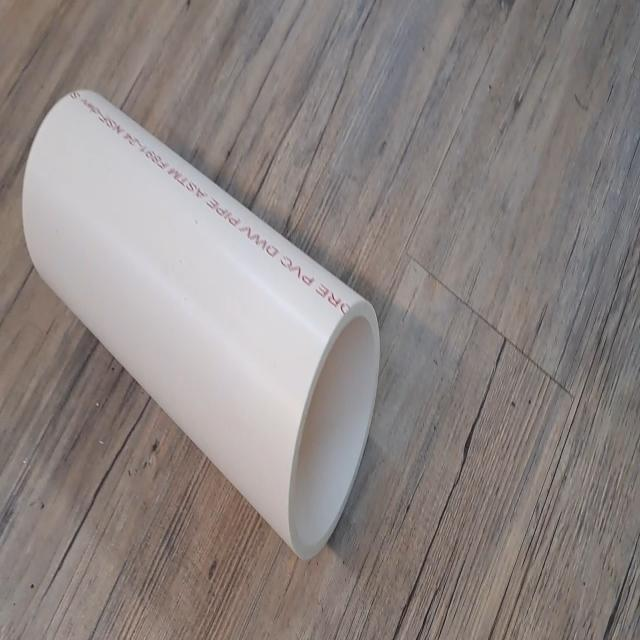CORAL: (18, 82, 384, 568)
